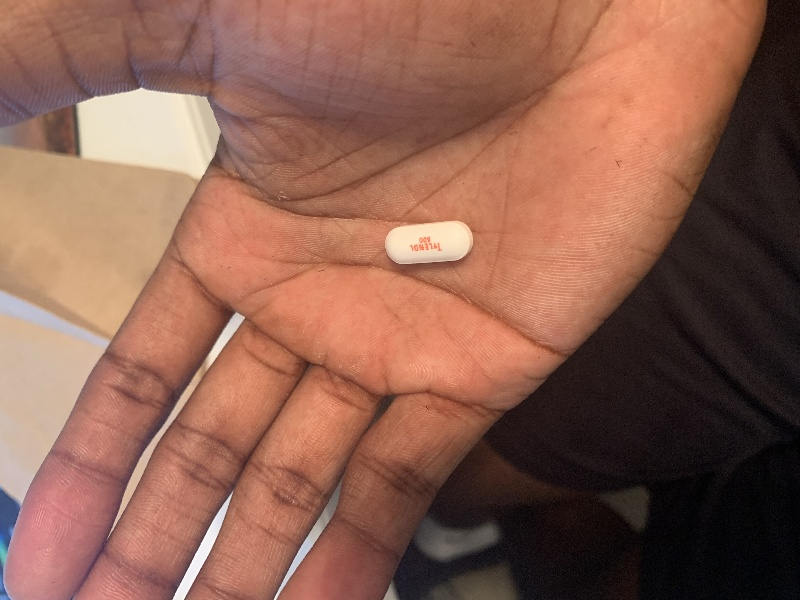Tylenol: (381, 218, 479, 269)
